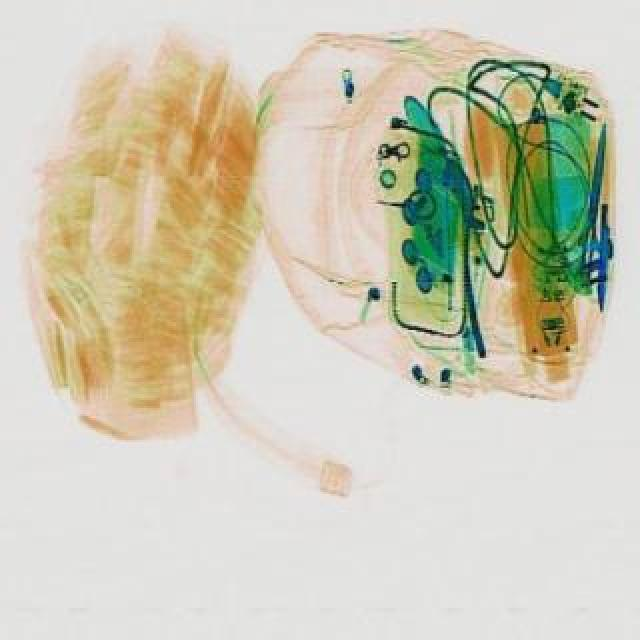knife: (580, 120, 604, 270), (594, 202, 610, 312)
